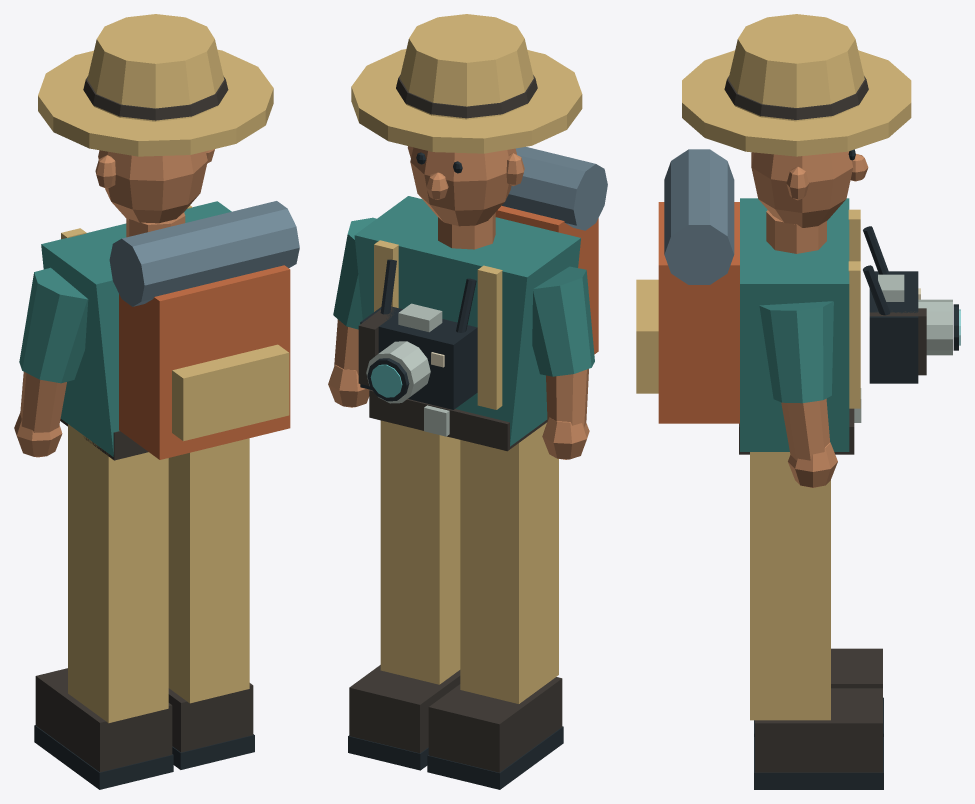
The model's file is researcher.glb.
3 renders of one model, left to right at view 1: azimuth 30°, elevation 25°; view 2: azimuth 150°, elevation 25°; view 3: azimuth 270°, elevation 25°, orthographic. The views are drawn at different scales.
Parts seen in each view (by area): view 1: Body, LegL, Head, LegR, ArmL; view 2: Body, LegL, Head, LegR, Camera, ArmL, ArmR; view 3: Body, Head, LegR, ArmR, Camera, LegL.
Part boxes in pixels (box(x1,y1,x2,y2)): Body: box(41, 201, 299, 460); LegL: box(34, 424, 173, 789); Head: box(38, 14, 273, 237); LegR: box(168, 438, 254, 769); ArmL: box(14, 267, 88, 457); Body: box(354, 147, 607, 451); LegL: box(427, 422, 563, 789); Head: box(351, 14, 582, 249); LegR: box(348, 420, 460, 770); Camera: box(358, 303, 477, 409); ArmL: box(532, 266, 594, 459); ArmR: box(328, 217, 376, 407); Body: box(636, 149, 890, 454); Head: box(682, 14, 911, 253); LegR: box(750, 452, 883, 789); ArmR: box(759, 301, 837, 487); Camera: box(869, 271, 960, 383); LegL: box(754, 648, 883, 736).
Bounding box in the file's own units: 0.742 × 1.94 × 0.799.
